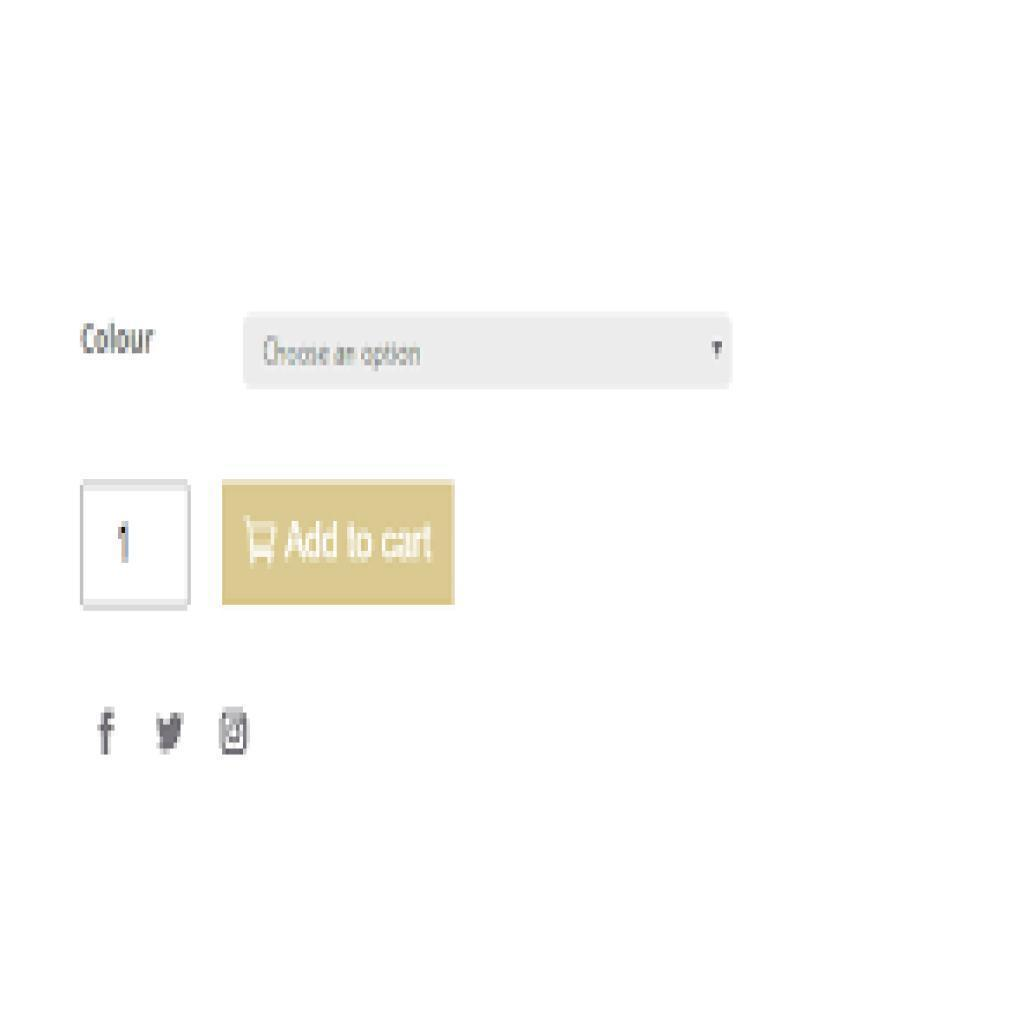button: (221, 486, 453, 603)
dropdown: (240, 316, 735, 386)
icon: (151, 704, 194, 766), (216, 704, 255, 771), (94, 704, 122, 766)
input: (81, 483, 189, 609)
label: (79, 315, 157, 369)
